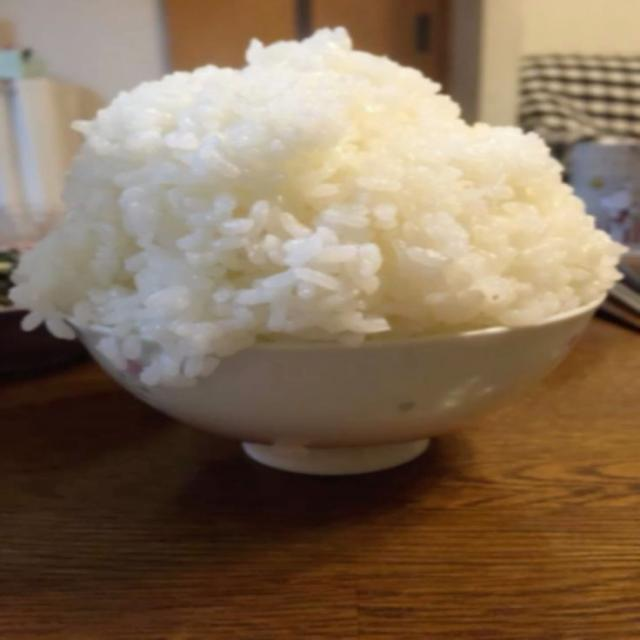rice: (12, 29, 620, 384)
